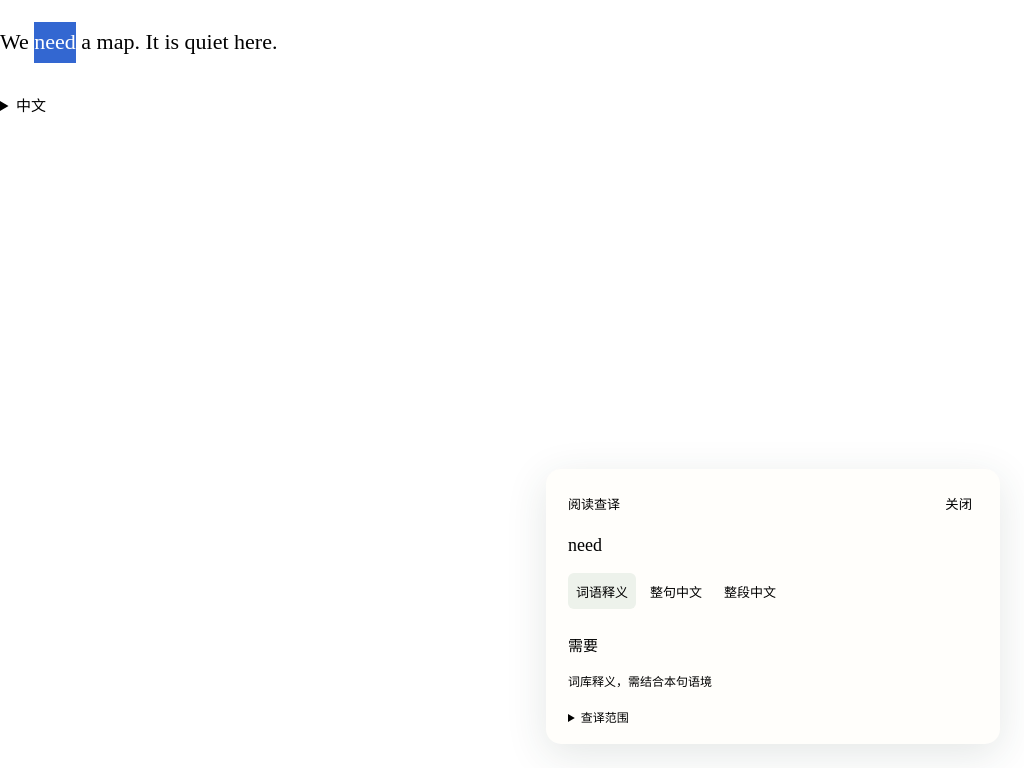
does not pretend paragraph translation is an independent sentence translation
Click the button "整句中文" at (676, 591), box left=642, top=573, right=710, bottom=609
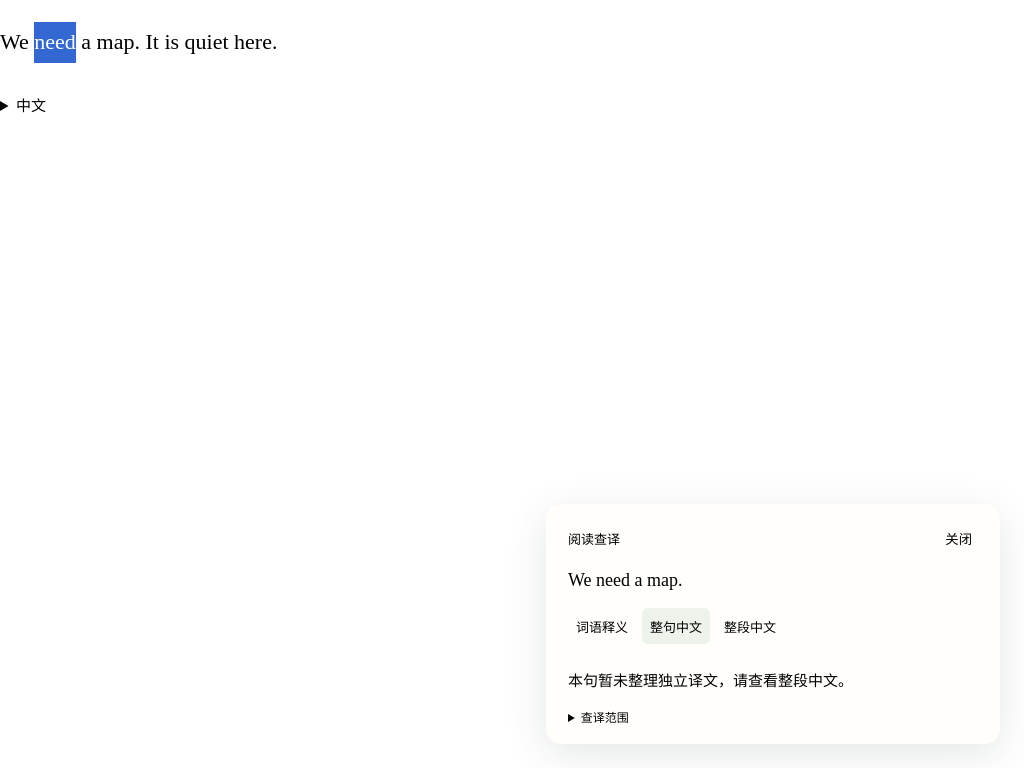
Result: the dialog shows "暂未整理独立译文" at left=568, top=673, right=853, bottom=689
Click the button "整段中文" at (750, 626), box left=716, top=608, right=784, bottom=644
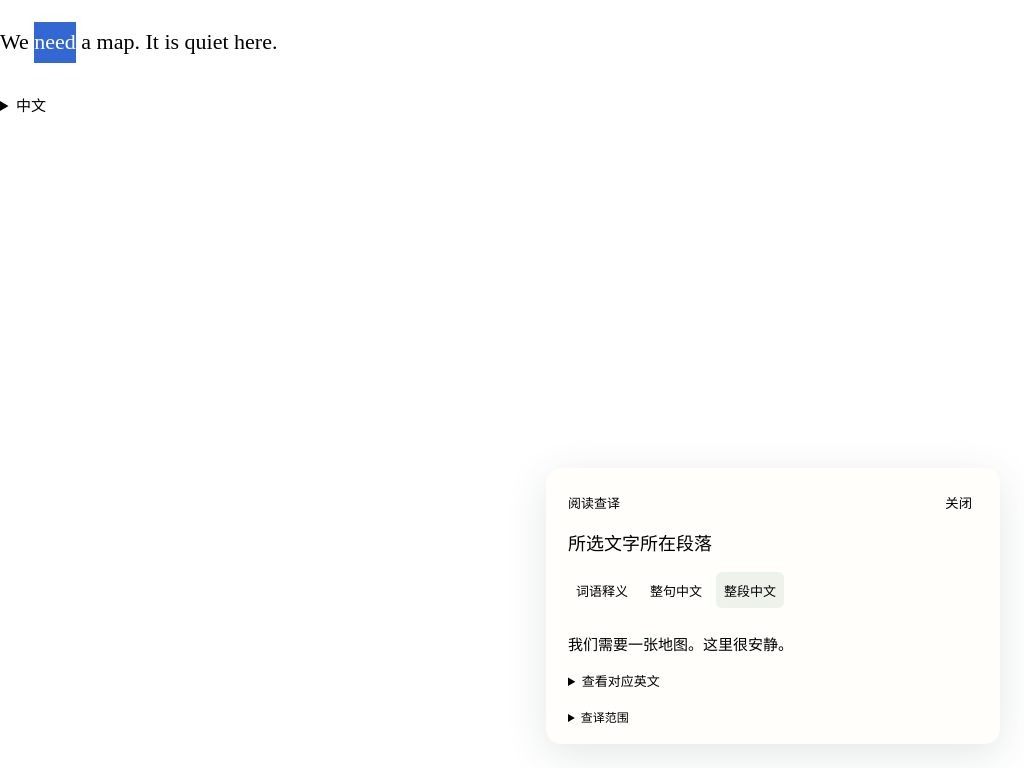
Result: the text with class "doli-lookup-meaning" reads "我们需要一张地图。这里很安静。" at left=568, top=637, right=793, bottom=653
